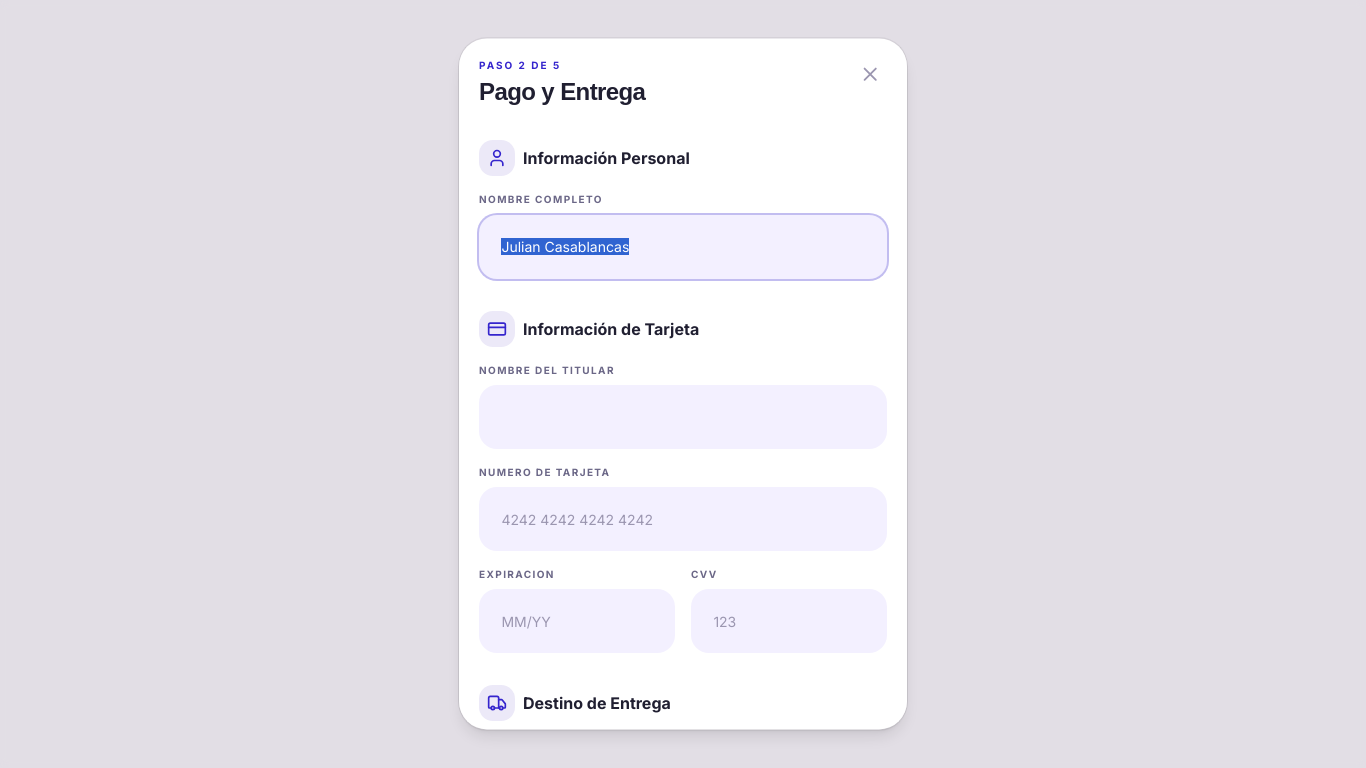
Test: BillingInfoModal › detects VISA brand when typing card number
In the field labelled "NUMERO DE TARJETA": (683, 520) [479,488,887,552], type "4242424242424242"
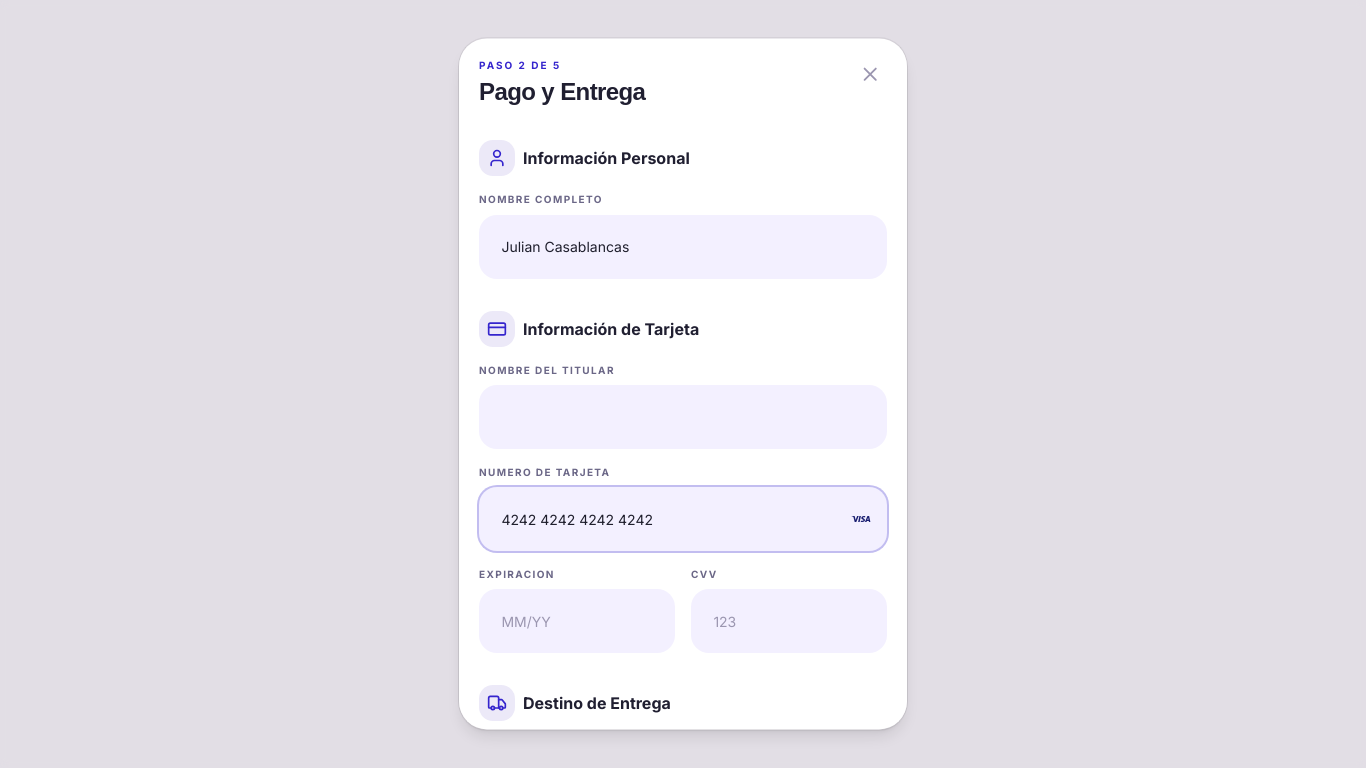
Check: the picture named "Visa" is shown, box [851,510,871,530]
